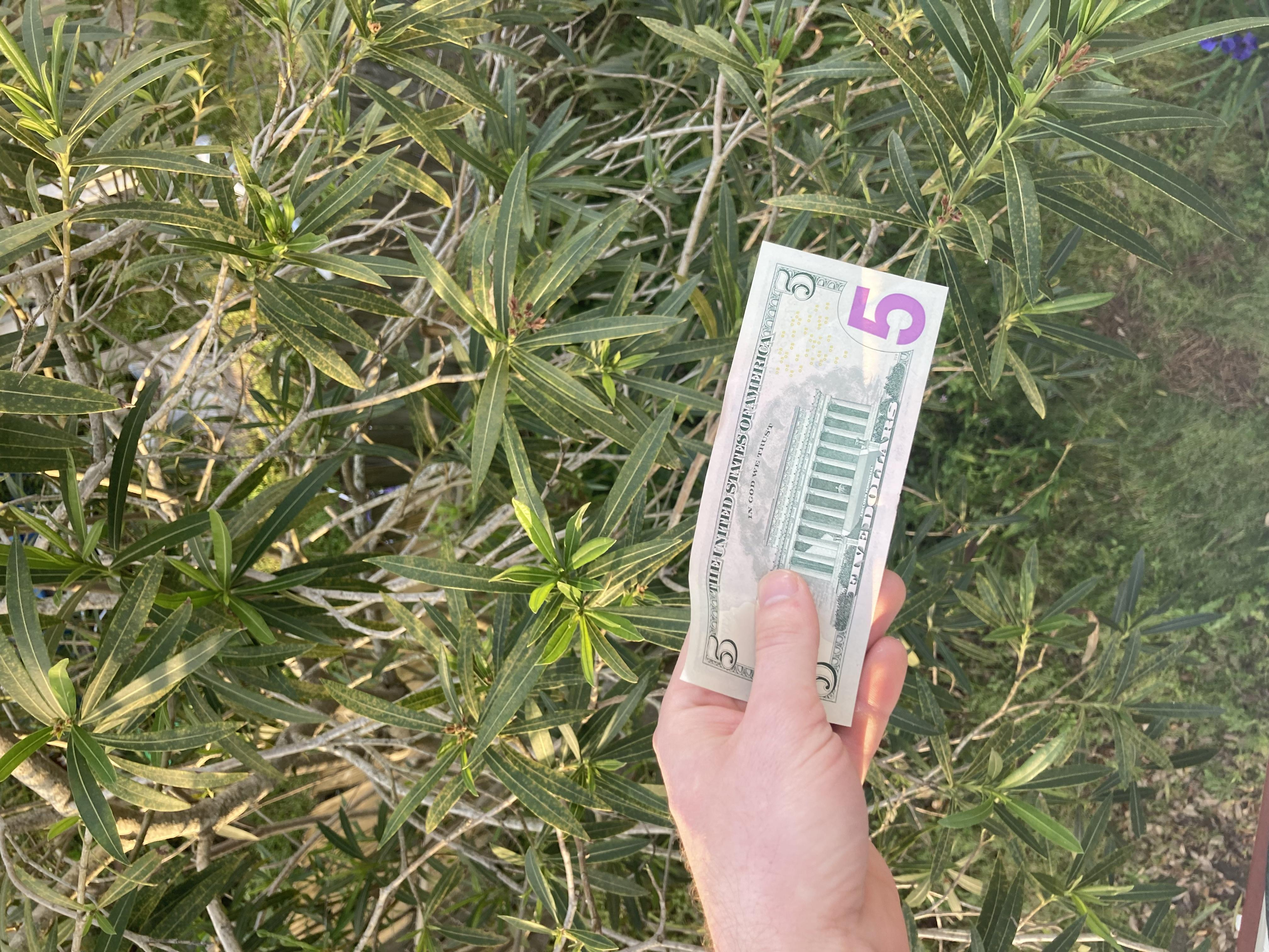five-back: (299, 511, 949, 712)
